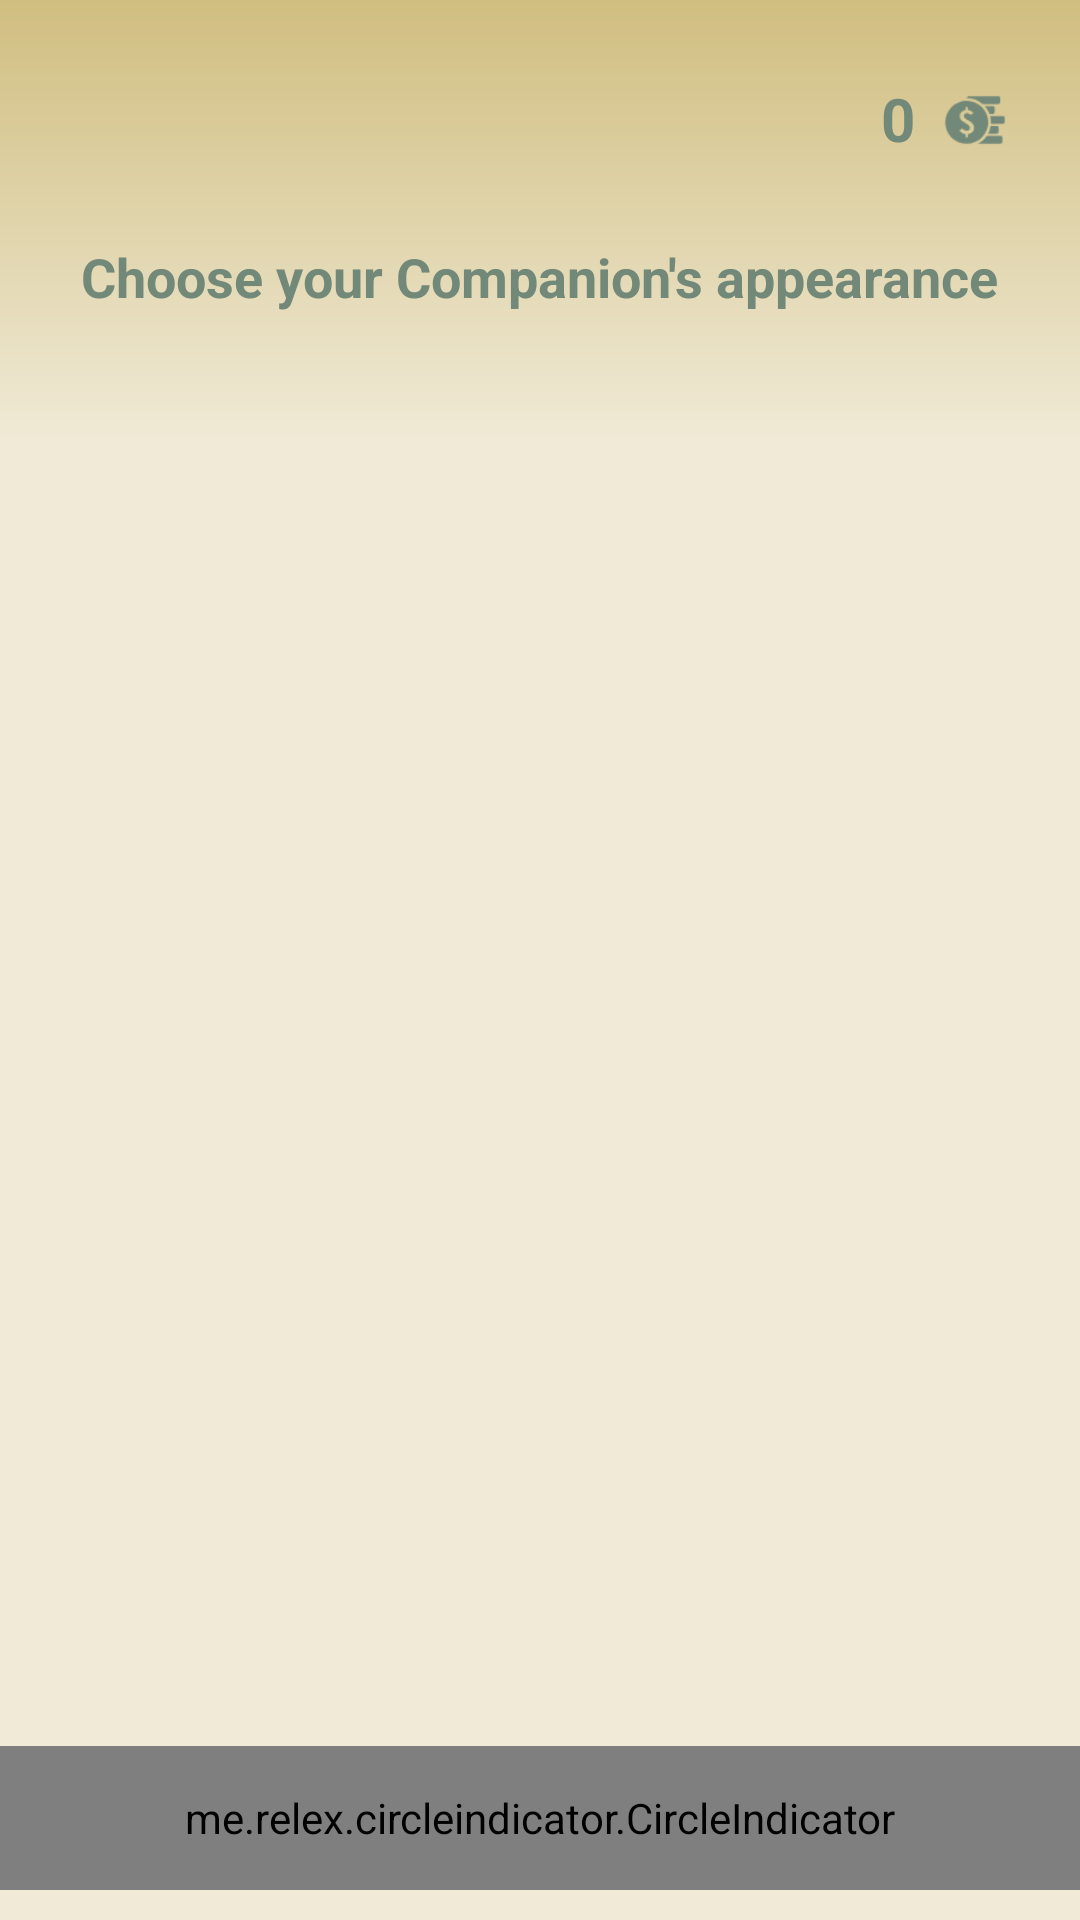

Icons on this 1080px x 1920px Android screen, each with its box as (x1, y1, x2, y2):
coins: (945, 96, 1005, 144)
